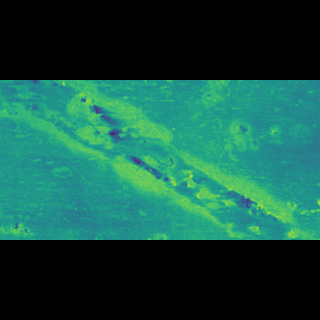Loch: (1, 119, 306, 202)
